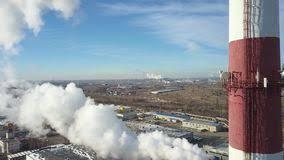smoke: (0, 76, 208, 160), (5, 0, 76, 64)
